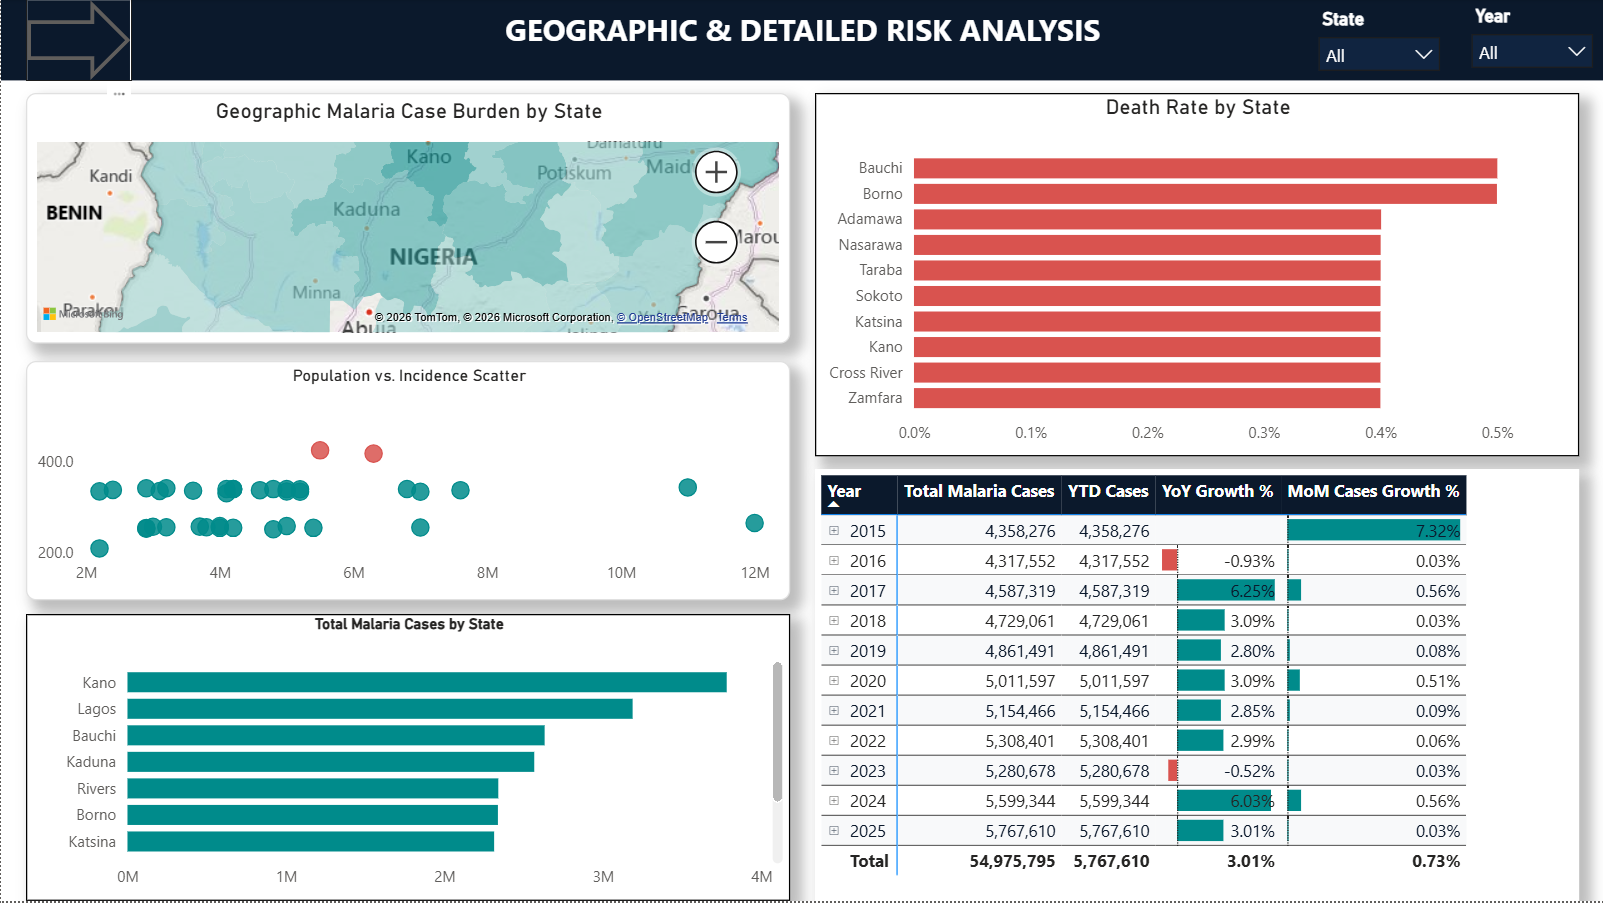

The dashboard page shown, as its layout file describes it:
{"tool":"powerbi","page":{"name":"Geographic Analysis","canvas":[1280,720],"ordinal":2},"visuals":[{"type":"shape","box":[0,0,1280,65],"z":0},{"type":"textbox","box":[0,2,1280,65],"z":1000},{"type":"slicer","fields":{"Values":["Dim_State.State"]},"box":[1041.9,2.3,116.5,62.7],"z":2000},{"type":"slicer","fields":{"Values":["Dim_Calendar.Year"]},"box":[1163.5,0,116.5,62.7],"z":3000},{"type":"filledMap","title":"Geographic Malaria Case Burden by State","fields":{"Category":["Dim_State.State"]},"box":[20,75,610,200],"z":4000},{"type":"scatterChart","title":"Population vs. Incidence Scatter","fields":{"Category":["Dim_State.State"],"X":["Dim_State.Base Population (2015)"],"Y":["Fact_Malaria.3. Average Incidence"]},"box":[20,289,610,191],"z":5000},{"type":"clusteredBarChart","fields":{"Category":["Dim_State.State"],"Y":["Fact_Malaria.1. Total Malaria Cases"]},"box":[20,491,610,229],"z":6000},{"type":"clusteredBarChart","title":"Death Rate by State","fields":{"Category":["Dim_State.State"],"Y":["Fact_Malaria.4. Death Rate"]},"box":[650,75,610,290],"z":7000},{"type":"pivotTable","fields":{"Rows":["Dim_Calendar.Year","Dim_Calendar.Month"],"Values":["Fact_Malaria.1. Total Malaria Cases","YTD Analysis.1. YTD Cases","YTD Analysis.3. YTD YoY Growth %","Month-over-Month Analysis.3. MoM Cases Growth %"]},"box":[650,375,610,345],"z":8000},{"type":"actionButton","box":[20,0,84.3,65.7],"z":9000}]}

Visuals, with their boxes in screenshot pixels (x1, y1, x2, y2), scaled from the page's 1280x720 canvas onto the 1603x908 screenshot:
shape: (left=0, top=0, right=1602, bottom=82)
textbox: (left=0, top=3, right=1602, bottom=84)
slicer - Dim_State.State: (left=1305, top=3, right=1451, bottom=82)
slicer - Dim_Calendar.Year: (left=1457, top=0, right=1602, bottom=79)
"Geographic Malaria Case Burden by State" filledMap: (left=25, top=95, right=789, bottom=347)
"Population vs. Incidence Scatter" scatterChart: (left=25, top=364, right=789, bottom=605)
clusteredBarChart - Dim_State.State x Fact_Malaria.1. Total Malaria Cases: (left=25, top=619, right=789, bottom=907)
"Death Rate by State" clusteredBarChart: (left=814, top=95, right=1578, bottom=460)
pivotTable - Dim_Calendar.Year x Dim_Calendar.Month: (left=814, top=473, right=1578, bottom=907)
actionButton: (left=25, top=0, right=131, bottom=83)
